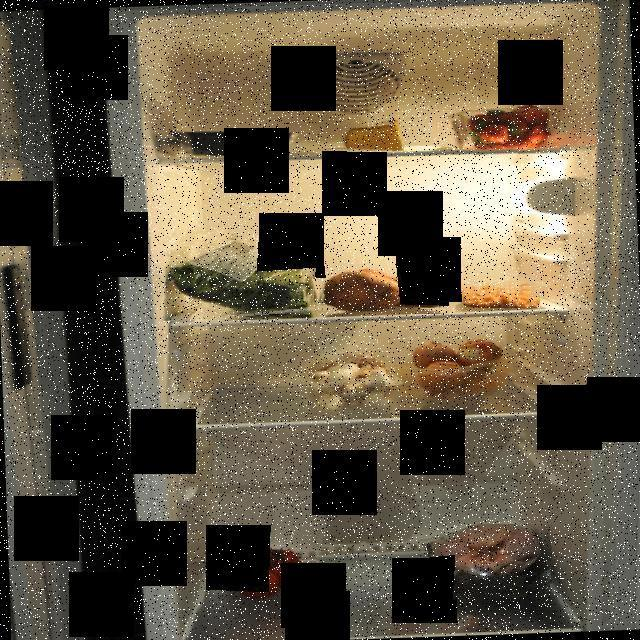cheese: (338, 117, 404, 152)
chicken: (426, 524, 554, 603)
mushrooms: (298, 350, 388, 418)
onion: (406, 336, 504, 396)
shrimp: (456, 282, 540, 308)
spinach: (162, 240, 318, 322)
strawberries: (448, 97, 560, 158)
sweet_potato: (316, 260, 449, 314)
tomato: (216, 530, 320, 600)
